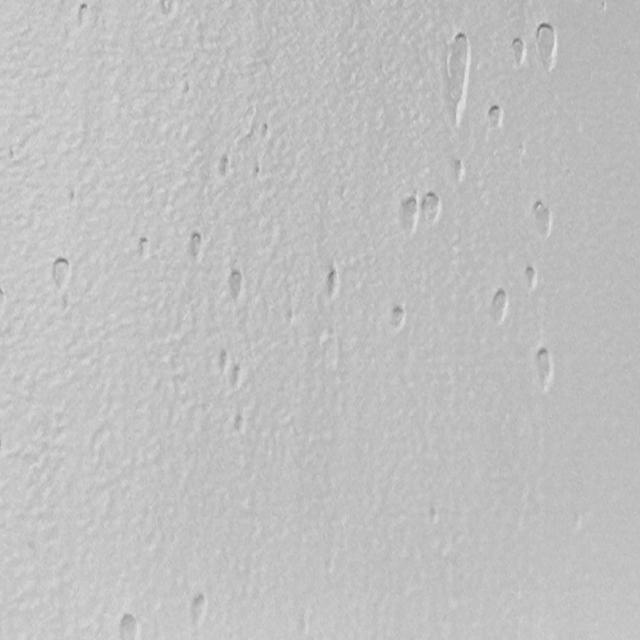pin holes: (442, 35, 472, 109), (532, 21, 561, 74), (531, 342, 559, 392), (529, 200, 555, 239), (186, 592, 210, 630), (49, 255, 72, 291), (486, 286, 509, 322), (398, 194, 419, 230), (116, 611, 142, 640), (420, 189, 443, 220), (226, 269, 247, 301), (322, 266, 343, 298), (185, 231, 206, 262), (508, 36, 528, 67), (228, 362, 248, 392), (390, 304, 411, 332), (522, 264, 542, 291), (484, 104, 503, 132), (73, 1, 92, 26), (449, 156, 467, 182), (158, 0, 180, 19), (216, 153, 232, 179), (136, 235, 153, 259), (232, 414, 249, 438), (218, 349, 232, 373), (1, 287, 10, 314), (260, 122, 272, 139), (253, 164, 264, 180)
